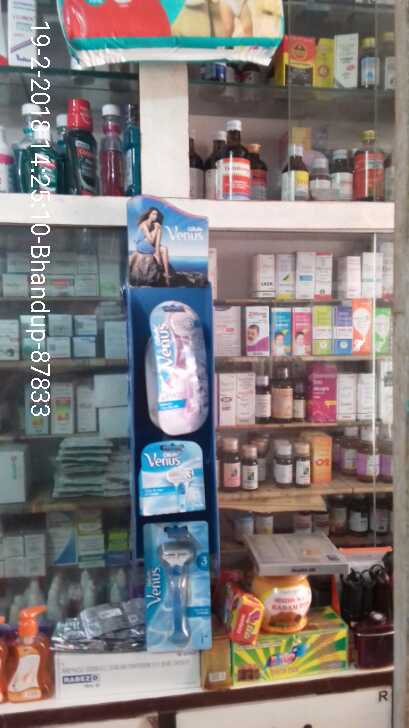beauty: (141, 524, 219, 648), (144, 293, 210, 436), (134, 443, 209, 515)
